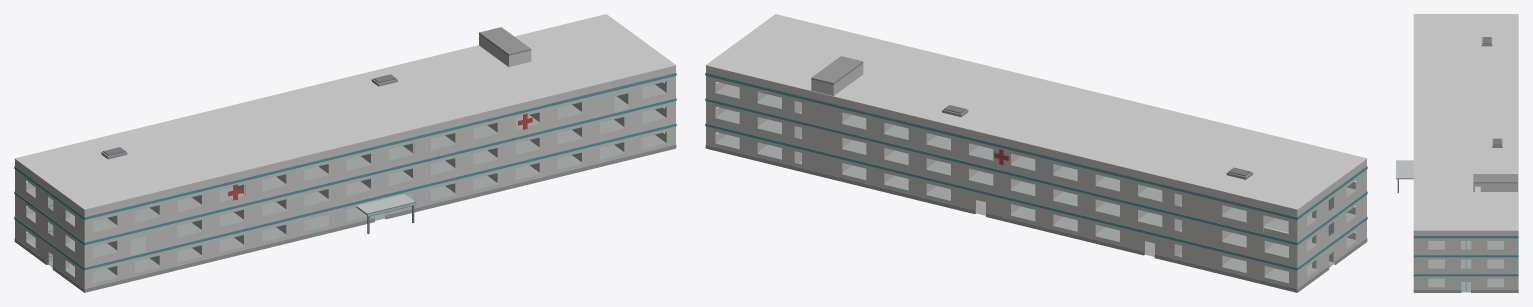
File: hosp-main.reveal-v1.lod0.glb
3 views of the same model, side by side, from view 1: azimuth 30°, elevation 25°; view 2: azimuth 150°, elevation 25°; view 3: azimuth 270°, elevation 25° (orthographic). The views are drawn at different scales.
Visible parts, largest first — view 1: hosp-main; view 2: hosp-main; view 3: hosp-main.
Part boxes in pixels (<box>): hosp-main: <box>14,14,676,292</box>; hosp-main: <box>705,14,1367,292</box>; hosp-main: <box>1396,14,1518,292</box>.
Size of the model in its own units: 98.12 by 15.27 by 23.5.
